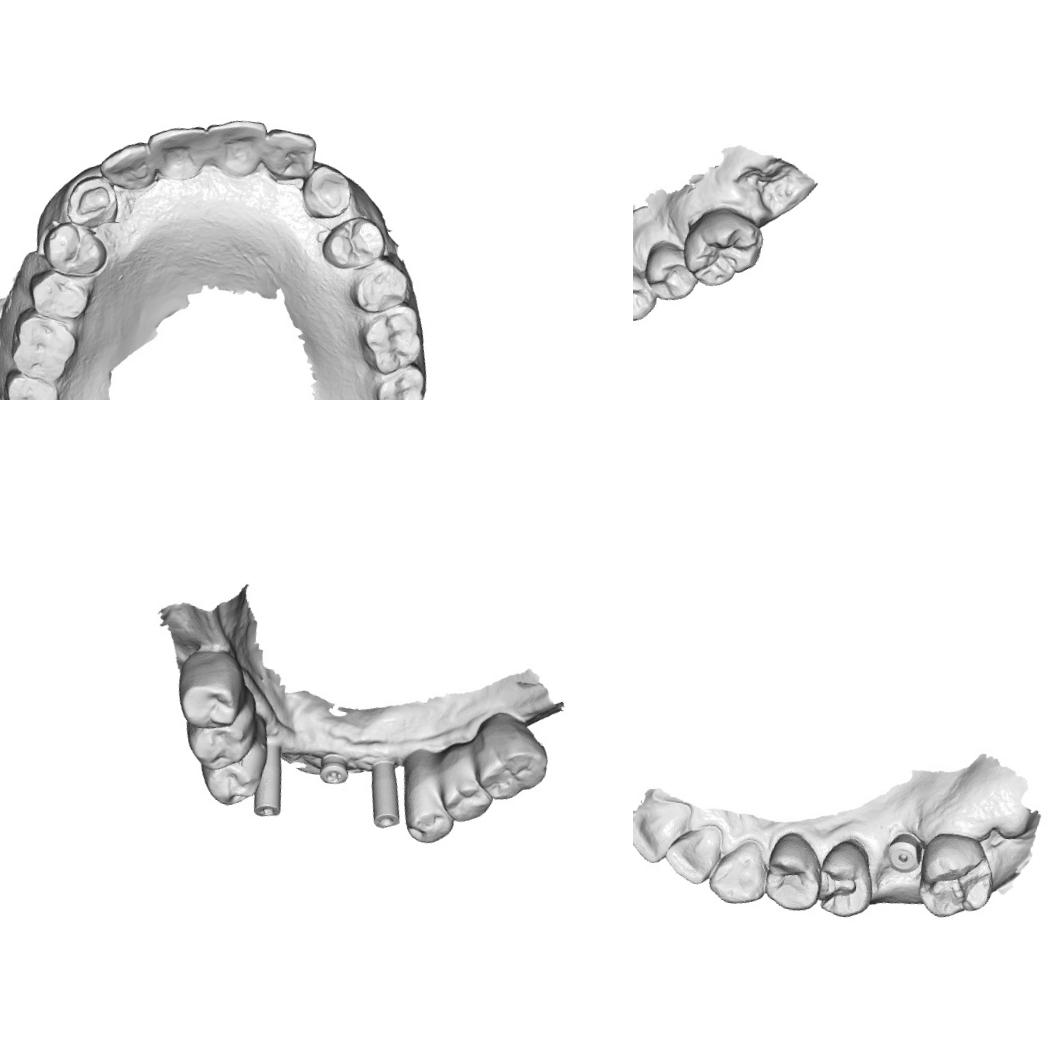canine: (706, 837, 770, 907), (296, 159, 358, 224), (62, 170, 122, 232)
implant: (249, 737, 293, 825), (363, 754, 410, 834), (882, 830, 924, 876)
implant_plus: (310, 745, 355, 794)
incisor: (200, 110, 271, 182), (141, 119, 210, 185), (633, 791, 689, 868), (662, 820, 724, 887), (93, 136, 161, 195), (259, 124, 320, 185)
inlay: (812, 865, 862, 914)
molar: (913, 828, 1002, 927), (677, 201, 768, 294), (469, 716, 558, 806), (172, 650, 252, 734), (353, 298, 432, 380), (5, 310, 84, 385), (370, 360, 433, 400), (0, 373, 63, 400)
premolar: (759, 828, 826, 918), (317, 210, 389, 276), (36, 218, 112, 280), (640, 237, 704, 305), (188, 714, 256, 776), (27, 266, 95, 326), (350, 258, 414, 321), (404, 791, 462, 849), (204, 753, 262, 811), (444, 764, 492, 821), (633, 257, 662, 326)
